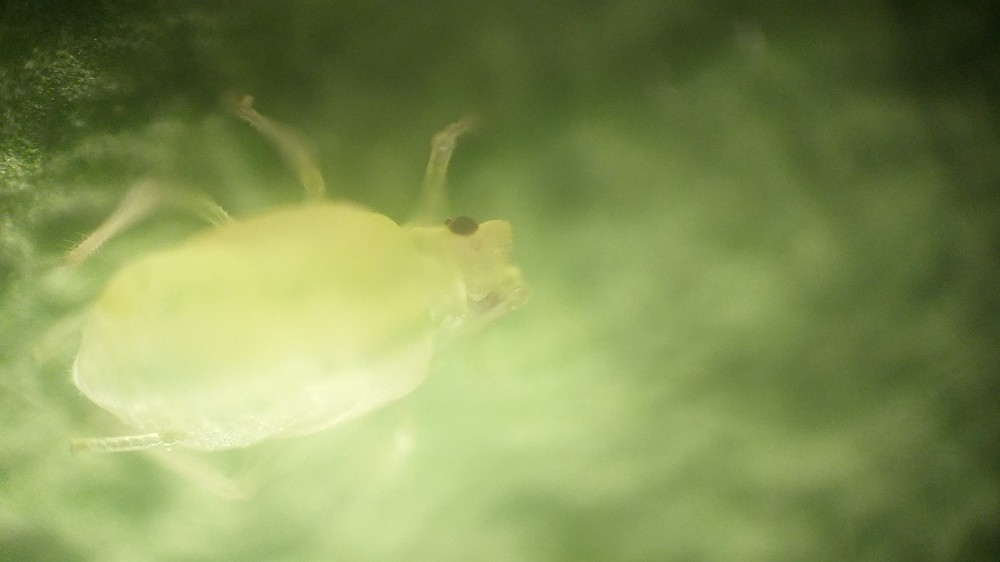Pulgon: (37, 91, 554, 518)
